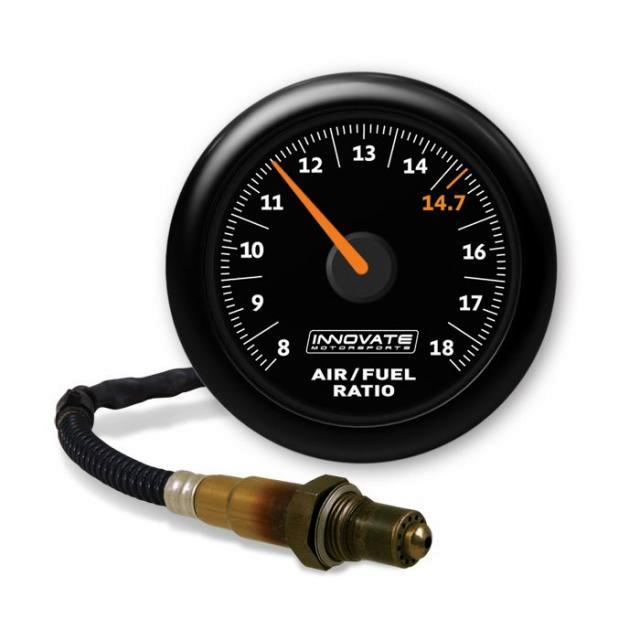Needle_Tip: (260, 151, 301, 193)
Needle_base: (321, 231, 401, 316)
max_value: (417, 328, 475, 374)
min_value: (263, 330, 309, 374)
